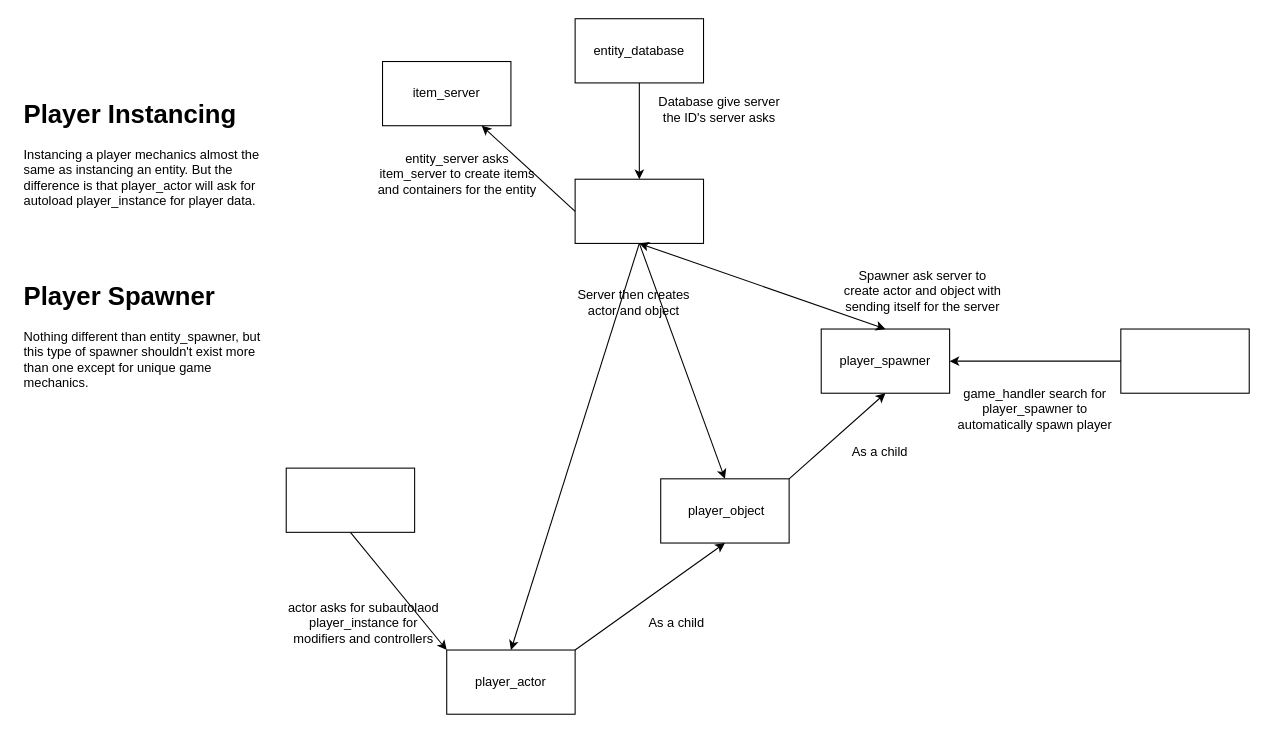
The diagram is 1268 pixels wide and 733 high, and some of its shapes have lost their labels. Here are the shapes that lost their labels. From the top down, the centre of each, then its label:
At (639,210): "entity_server".
At (1184,360): "game_handler".
At (350,499): "player_instance".
